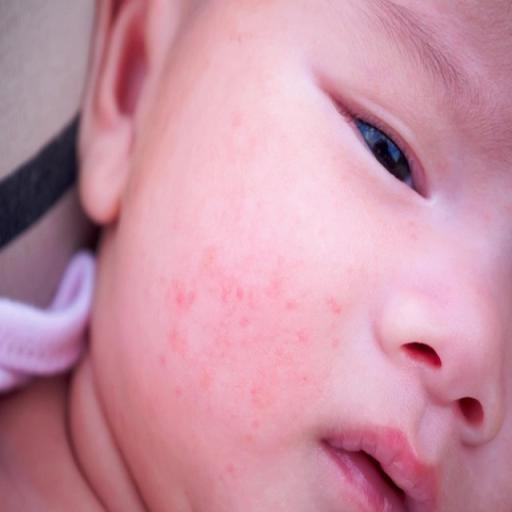Skin_Lesion: (170, 280, 190, 314), (232, 280, 253, 311), (244, 384, 266, 406), (168, 327, 186, 350), (324, 297, 341, 314), (283, 297, 294, 316)
